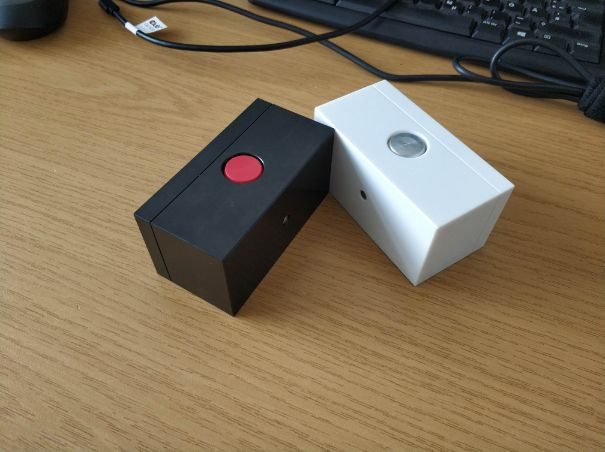black+black+red: (131, 96, 338, 318)
white+white+silver: (311, 78, 517, 290)
